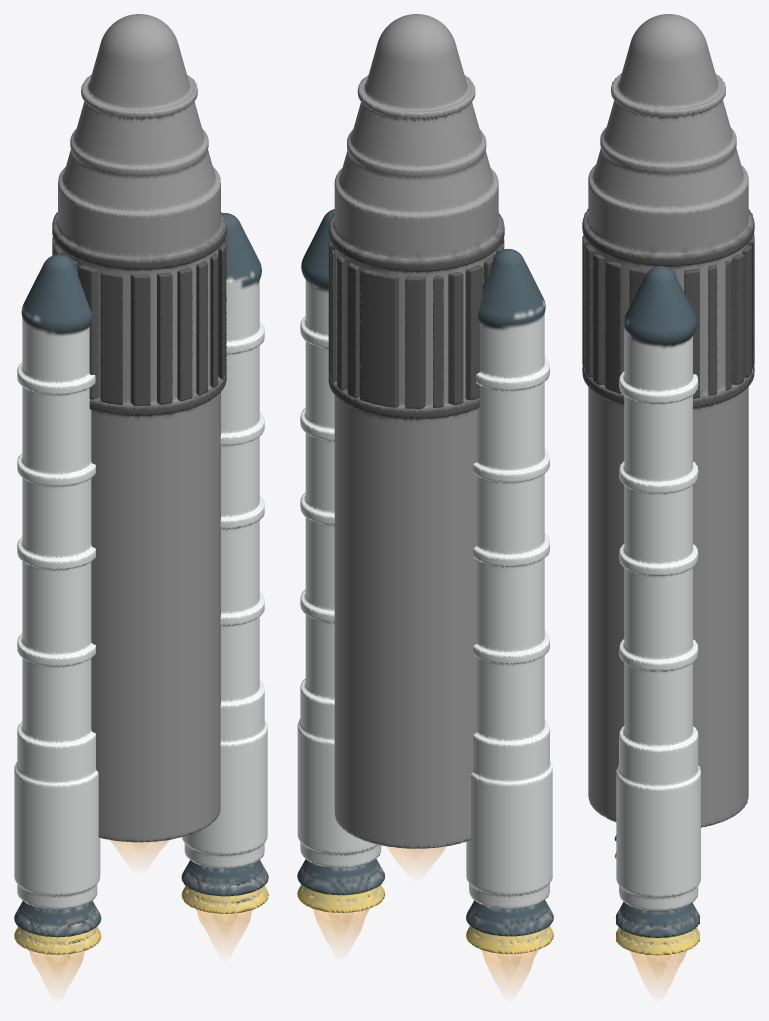
File: rocket_integration_ready.glb
3 renders of one model, left to right at view 1: azimuth 30°, elevation 25°; view 2: azimuth 150°, elevation 25°; view 3: azimuth 270°, elevation 25°, orthographic. The views are drawn at different scales.
Visible parts, largest first — view 1: Central_Core_Textured, Right_Solid_Booster_Textured, Left_Solid_Booster_Textured, Upper_Core_Equipment_Textured, Left_Engine_Exhaust_Outer, Right_Engine_Exhaust_Outer, Central_Engine_Exhaust_Outer; view 2: Central_Core_Textured, Right_Solid_Booster_Textured, Left_Solid_Booster_Textured, Upper_Core_Equipment_Textured, Right_Engine_Exhaust_Outer, Left_Engine_Exhaust_Outer, Central_Engine_Exhaust_Outer; view 3: Central_Core_Textured, Left_Solid_Booster_Textured, Upper_Core_Equipment_Textured, Left_Engine_Exhaust_Outer.
Boxes of the visible parts, box(x1,y1,x2,y2) form: Central_Core_Textured: box(52, 14, 226, 842); Right_Solid_Booster_Textured: box(14, 254, 101, 954); Left_Solid_Booster_Textured: box(181, 213, 268, 913); Upper_Core_Equipment_Textured: box(52, 237, 226, 405); Left_Engine_Exhaust_Outer: box(196, 909, 252, 951); Right_Engine_Exhaust_Outer: box(29, 950, 84, 992); Central_Engine_Exhaust_Outer: box(110, 840, 168, 865); Central_Core_Textured: box(328, 14, 504, 848); Right_Solid_Booster_Textured: box(466, 249, 553, 954); Left_Solid_Booster_Textured: box(297, 209, 384, 912); Upper_Core_Equipment_Textured: box(328, 238, 504, 408); Right_Engine_Exhaust_Outer: box(482, 950, 537, 993); Left_Engine_Exhaust_Outer: box(313, 909, 369, 951); Central_Engine_Exhaust_Outer: box(387, 846, 445, 872); Central_Core_Textured: box(582, 14, 754, 827); Left_Solid_Booster_Textured: box(615, 266, 700, 955); Upper_Core_Equipment_Textured: box(582, 233, 754, 398); Left_Engine_Exhaust_Outer: box(630, 951, 686, 992).
Size of the model in its own units: 7.94 by 30.08 by 4.94.
7 materials, 4 textured.
